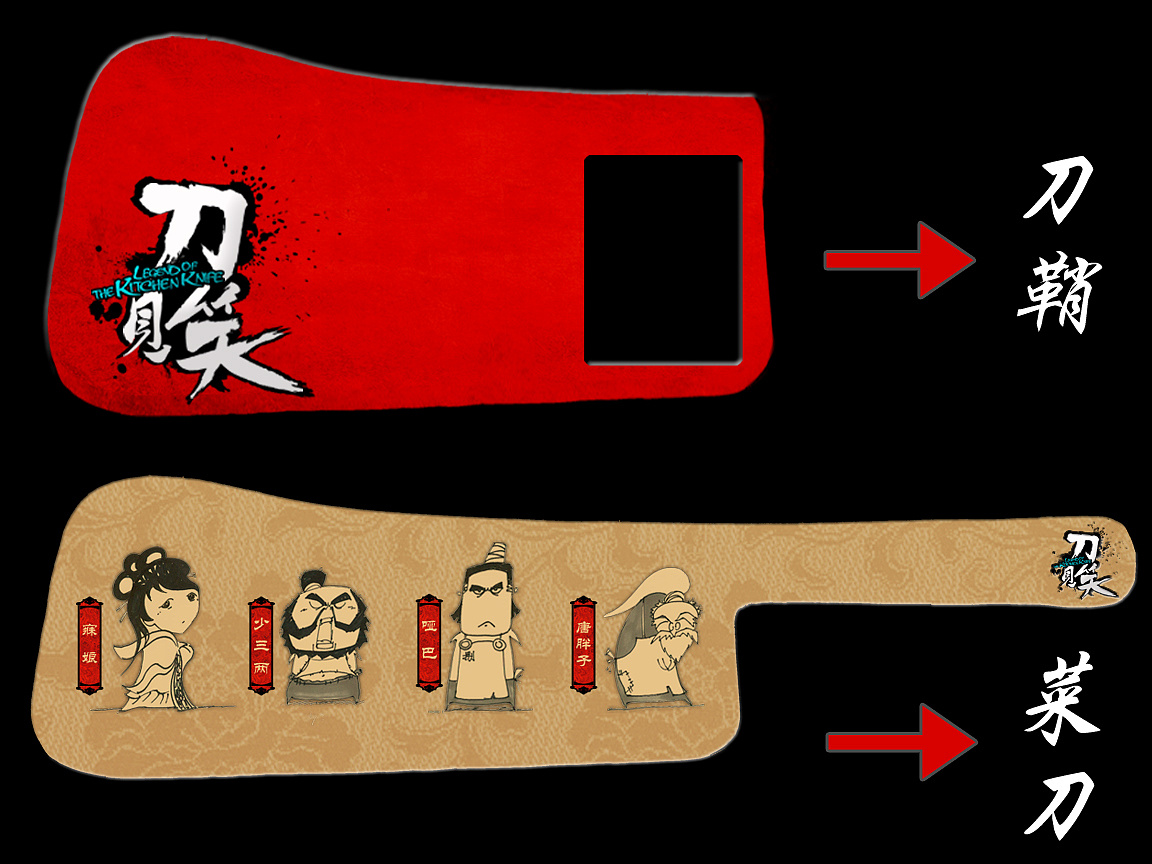knief: (44, 458, 1116, 762)
